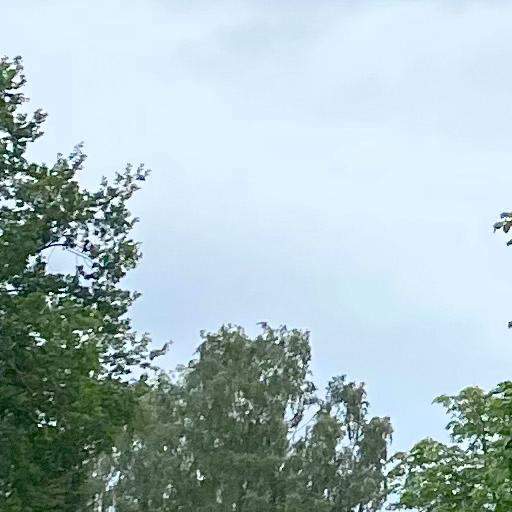tree: (1, 1, 174, 511), (73, 322, 408, 511), (1, 293, 174, 511), (388, 380, 512, 512)
